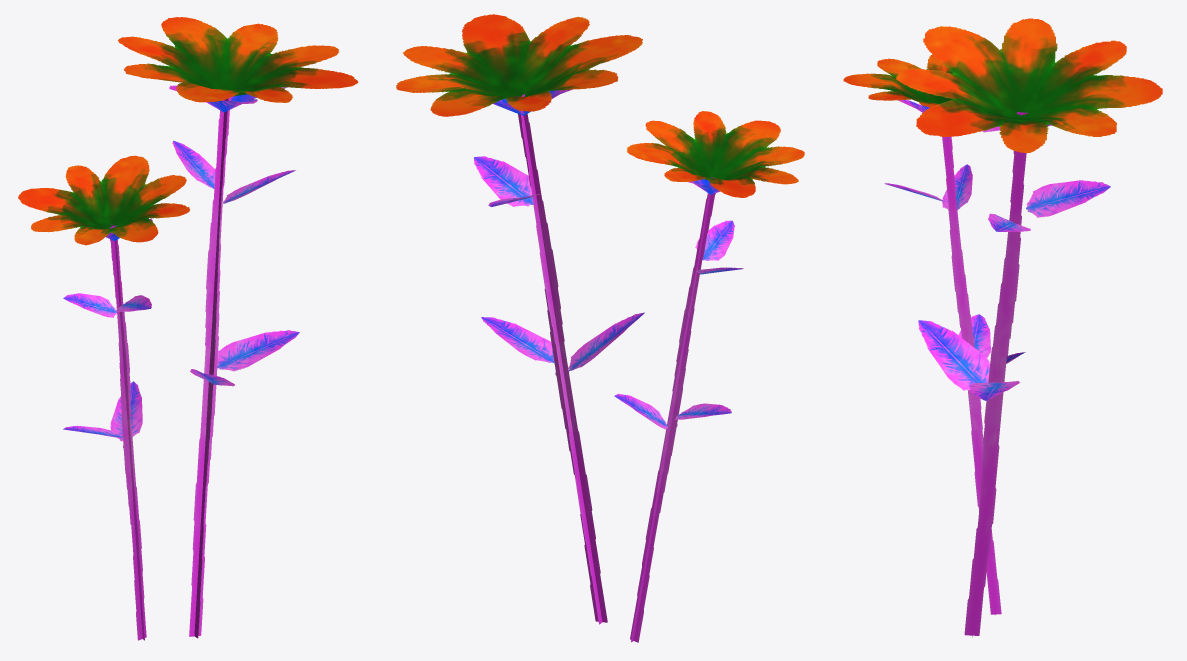
Rendered from SM_Yellow_lion.fbx.
3 renders of one model, left to right at view 1: azimuth 30°, elevation 25°; view 2: azimuth 150°, elevation 25°; view 3: azimuth 270°, elevation 25°, orthographic. The views are drawn at different scales.
Visible parts, largest first — view 1: SM_Yellow_lion_LOD0; view 2: SM_Yellow_lion_LOD0; view 3: SM_Yellow_lion_LOD0.
Part boxes in pixels (bbox=[...]): SM_Yellow_lion_LOD0: bbox=[18, 17, 358, 640]; SM_Yellow_lion_LOD0: bbox=[396, 14, 804, 642]; SM_Yellow_lion_LOD0: bbox=[843, 18, 1162, 637].
Size of the model in its own units: 38.63 by 29.77 by 58.77.
